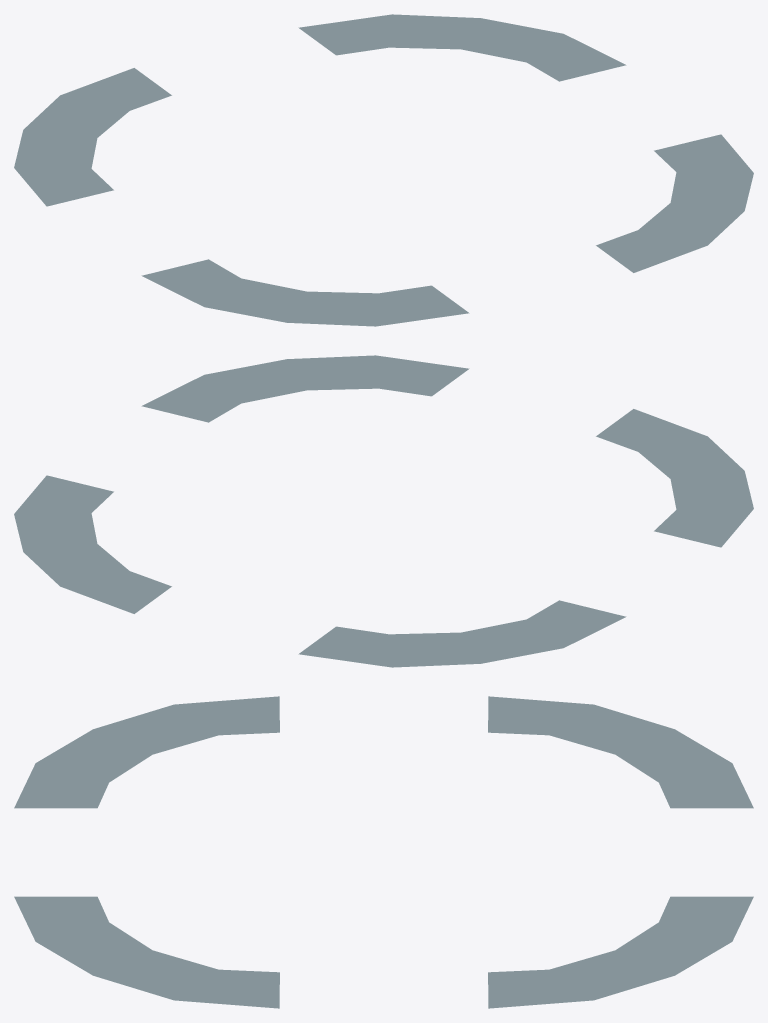
File: PistonTopGlass.fbx
3 renders of one model, top to bottom at view 1: azimuth 30°, elevation 25°; view 2: azimuth 150°, elevation 25°; view 3: azimuth 270°, elevation 25°, orthographic. The views are drawn at different scales.
Visible parts, largest first — view 1: PistonTopGlass; view 2: PistonTopGlass; view 3: PistonTopGlass.
Part boxes in pixels (box(x1,y1,x2,y2)): PistonTopGlass: box(14, 14, 753, 326); PistonTopGlass: box(14, 355, 753, 667); PistonTopGlass: box(14, 696, 753, 1008).
Size of the model in its own units: 4483 by 0 by 4489.
